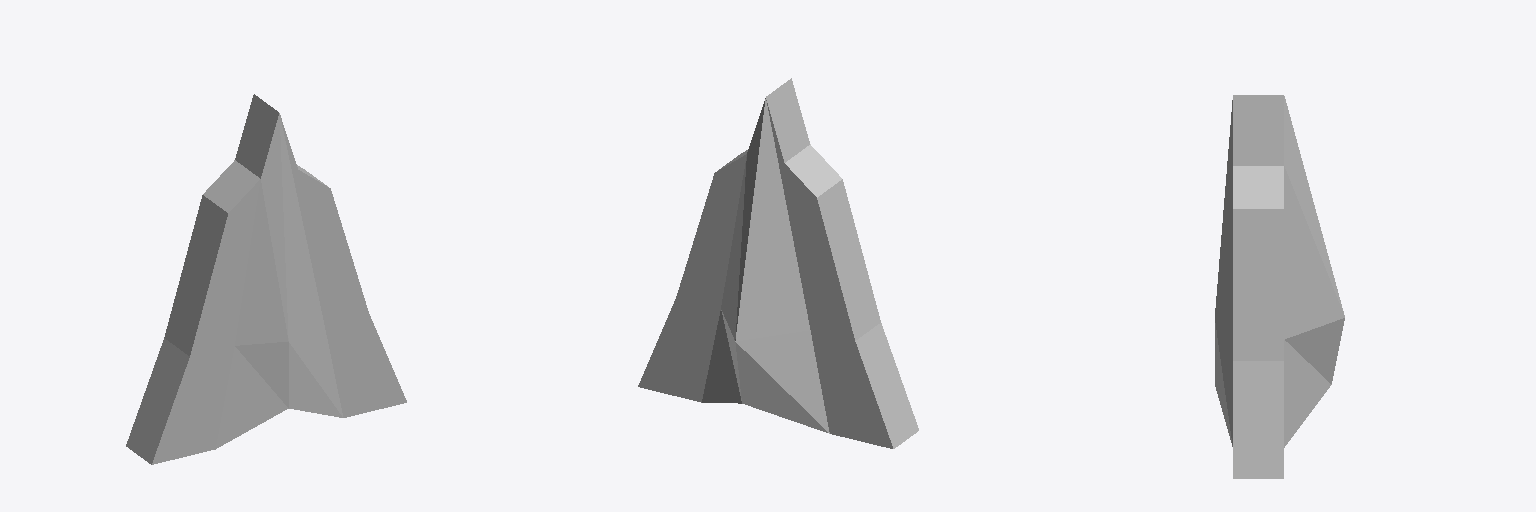
Rendered from ship.obj.
The picture shows the model from 3 angles: view 1: azimuth 30°, elevation 25°; view 2: azimuth 150°, elevation 25°; view 3: azimuth 270°, elevation 25°; orthographic projection.
Visible parts, largest first — view 1: Ship; view 2: Ship; view 3: Ship.
Part boxes in pixels (x1,y1,x2,y2): Ship: (126, 94, 406, 464); Ship: (638, 78, 918, 448); Ship: (1215, 95, 1344, 478).
Size of the model in its own units: 2 by 2.4 by 0.8833.